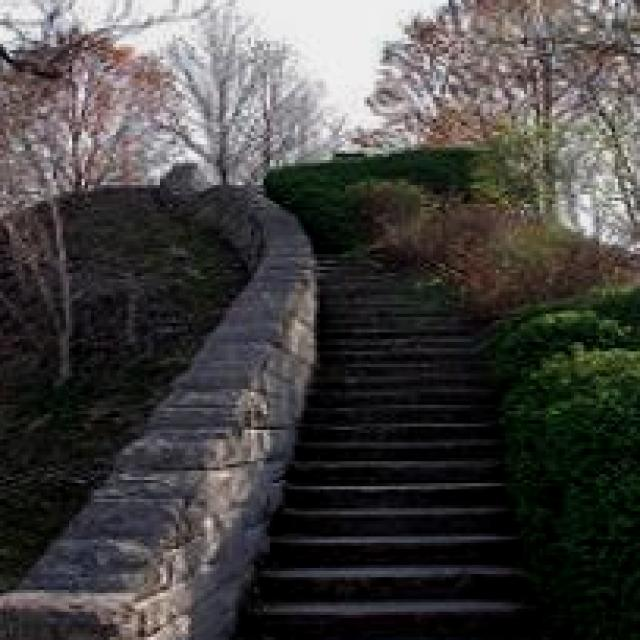upstair: (261, 427, 515, 640)
